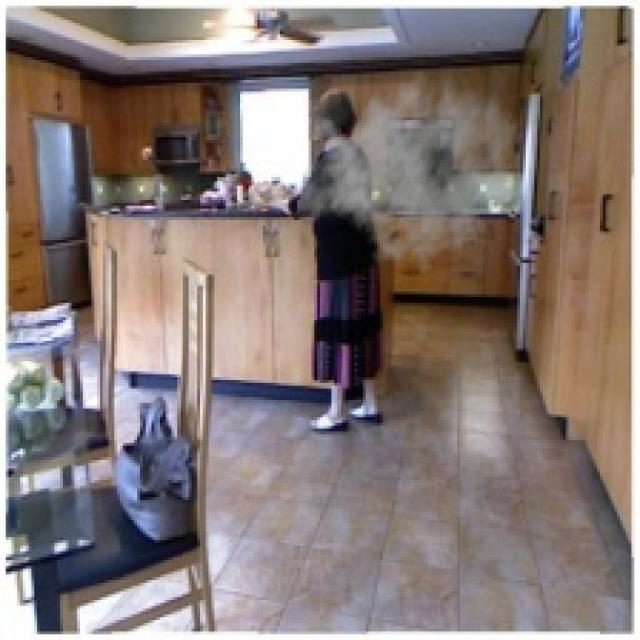Smoke: (294, 59, 523, 274)
